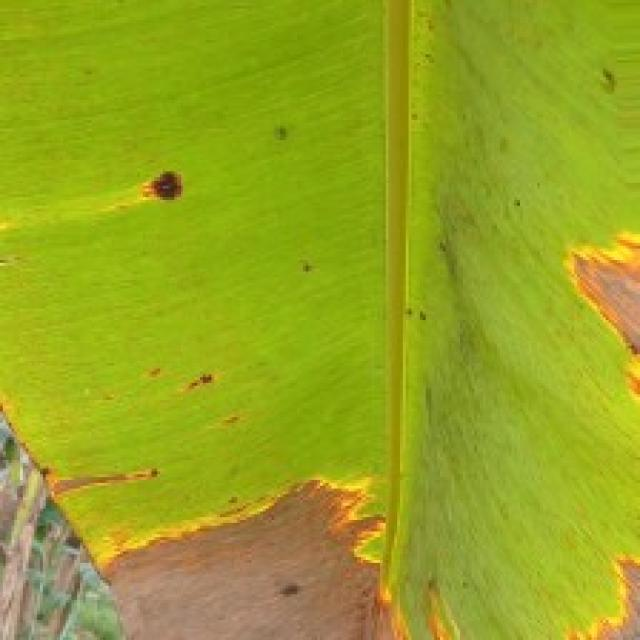Bacterial_spot: (86, 479, 408, 640), (551, 208, 640, 406), (41, 459, 178, 499), (587, 537, 640, 640), (133, 160, 203, 219), (175, 369, 227, 412)
